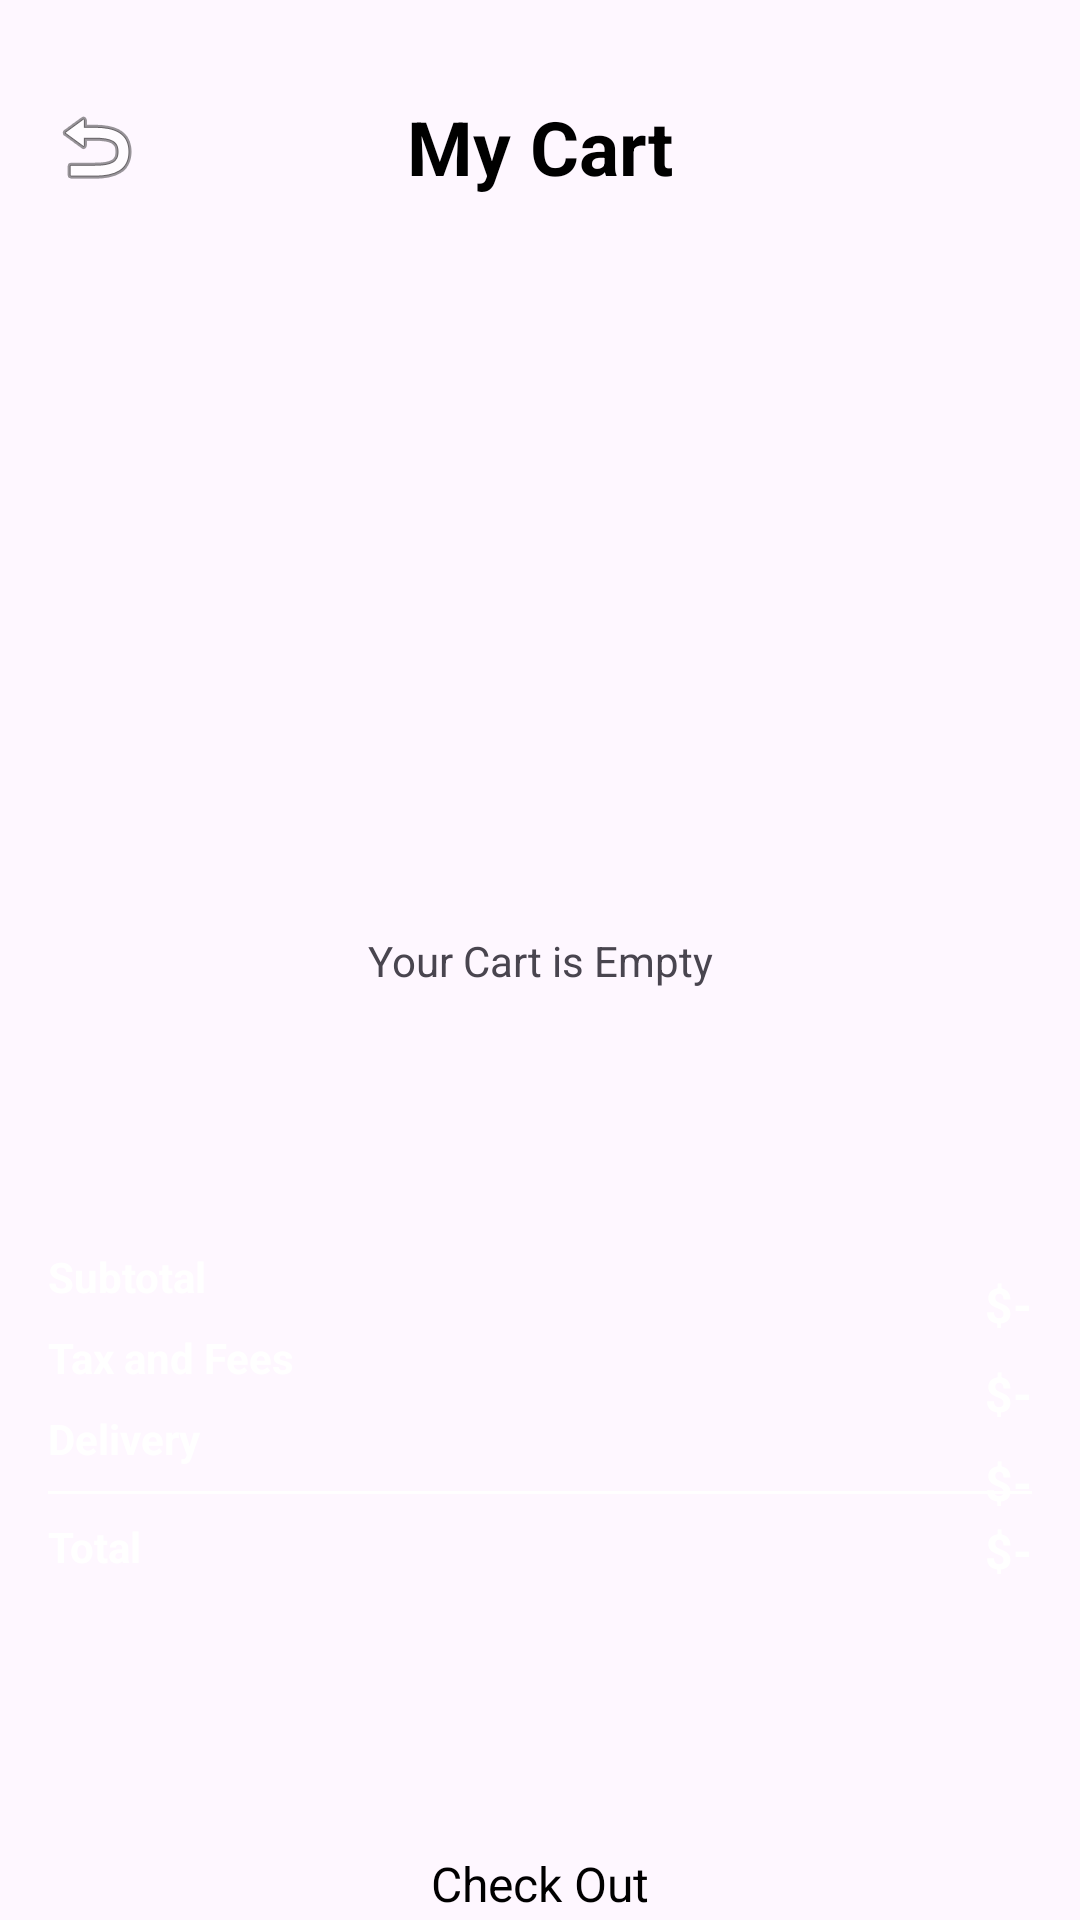

Icons on this 1080w x 1920h Android screen, each with its box as bbox=(x1, y1, x2, y2):
revert: bbox=(63, 116, 132, 179)
